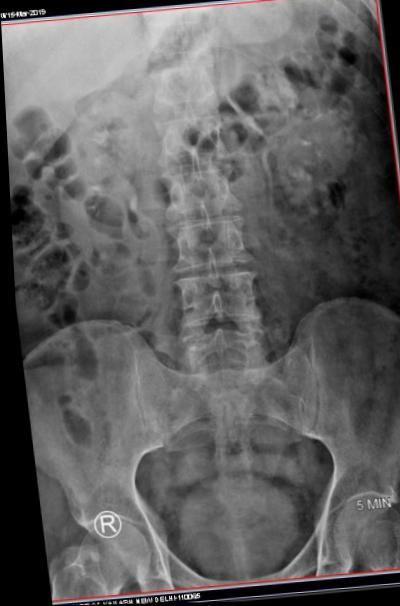bladder: (154, 460, 311, 590)
vertebrae: (148, 113, 235, 173)
